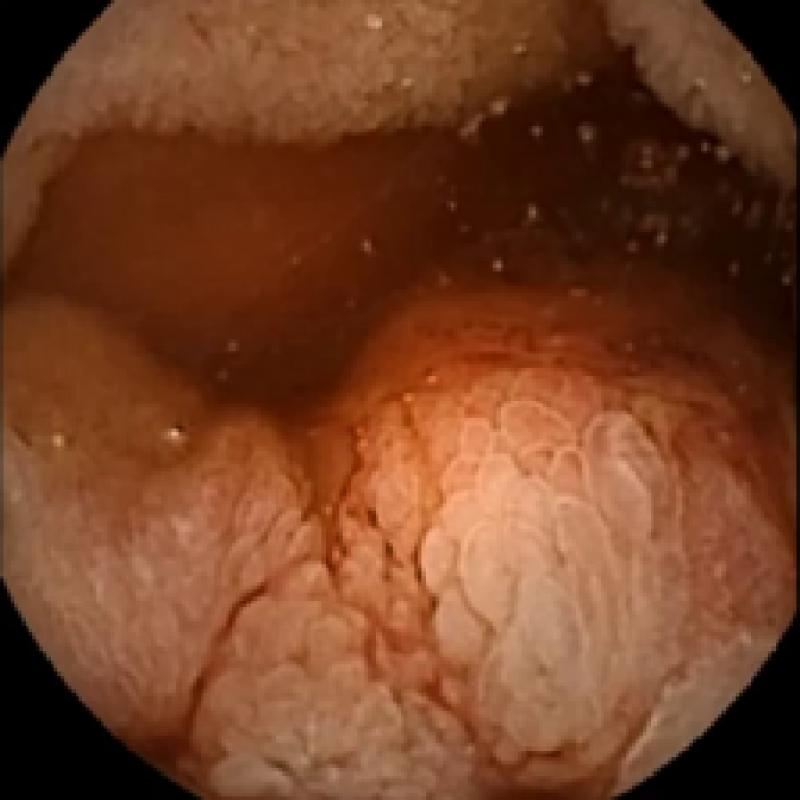bleeding: (7, 0, 784, 800)
